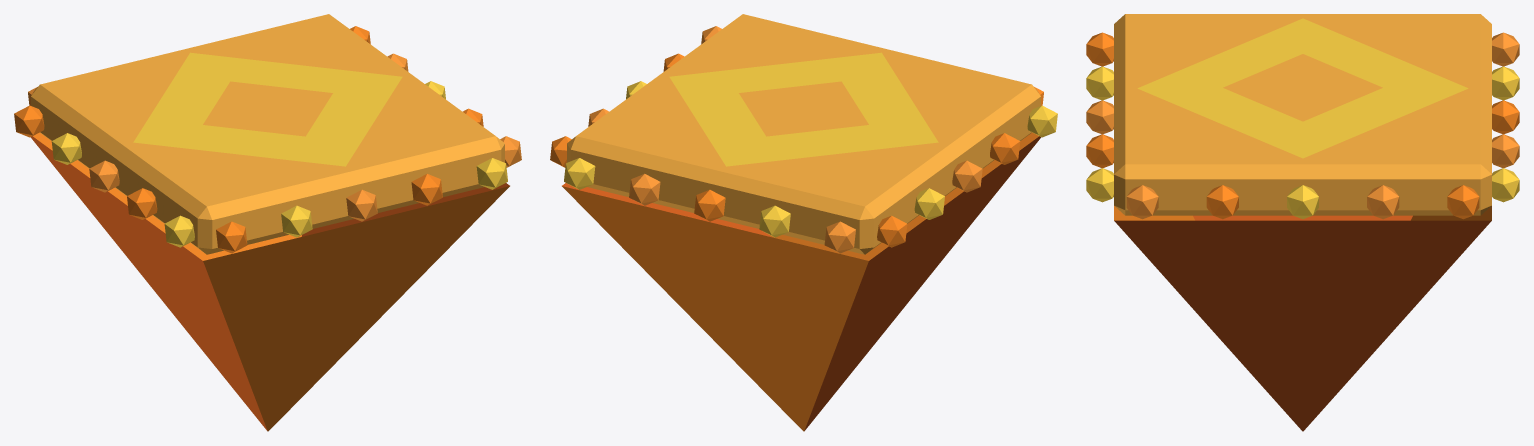
The model's file is marker.glb.
3 views of the same model, side by side, from view 1: azimuth 30°, elevation 25°; view 2: azimuth 150°, elevation 25°; view 3: azimuth 270°, elevation 25° (orthographic). The views are drawn at different scales.
Visible parts, largest first — view 1: marker; view 2: marker; view 3: marker.
Part boxes in pixels (x1,y1,x2,y2): marker: [14, 14, 521, 431]; marker: [550, 14, 1057, 431]; marker: [1086, 14, 1519, 431].
Size of the model in its own units: 1.15 by 1 by 1.15.
1 material, 1 textured.
